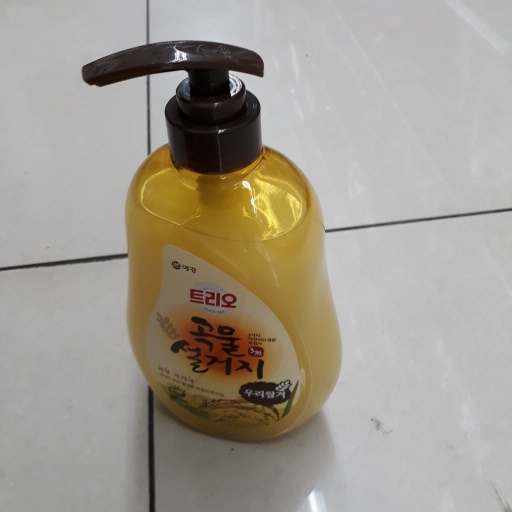Plastic_3: (77, 37, 347, 444)
